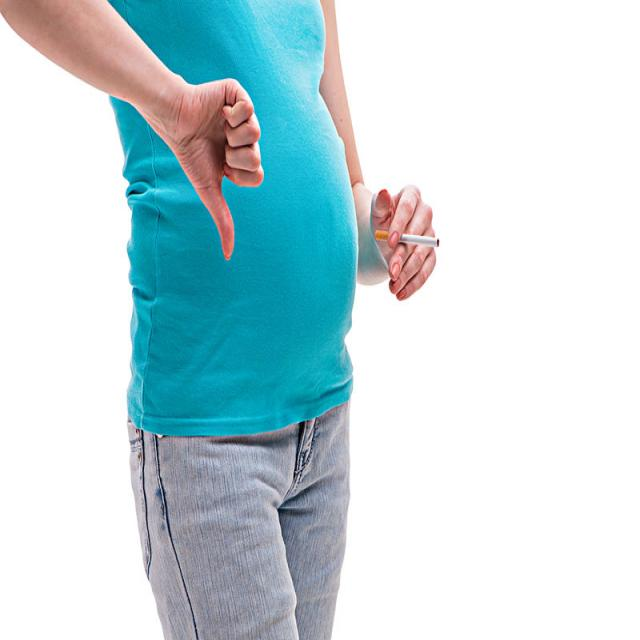smoking: (374, 231, 439, 246)
